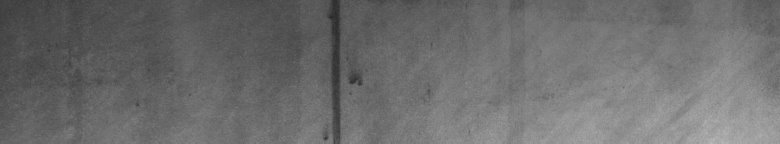hd: (325, 4, 365, 136)
